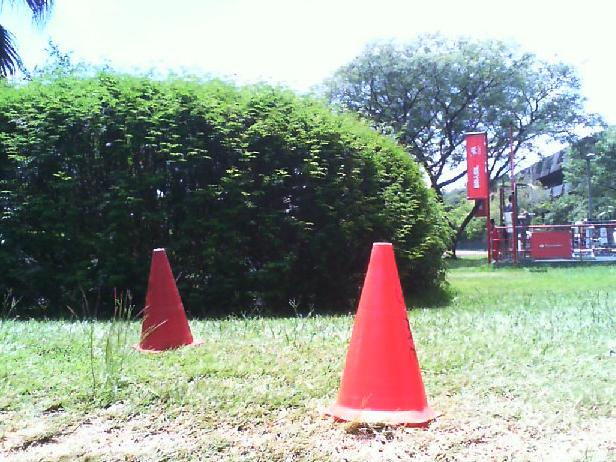0 cone: (322, 242, 442, 427), (134, 248, 204, 351)
